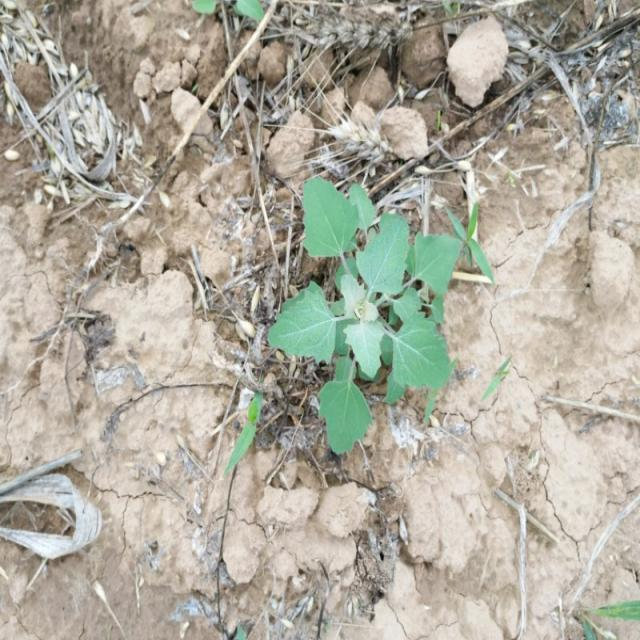goosefoots: (274, 180, 455, 453)
